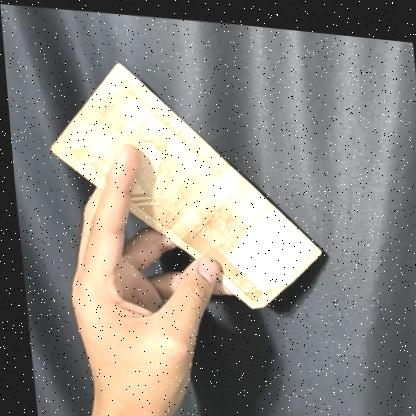five-back-vef: (37, 48, 325, 314)
